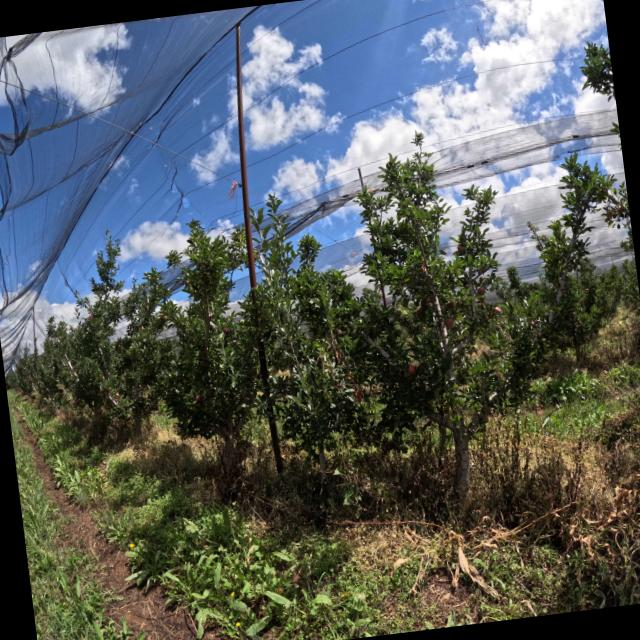-FireBlight-: (324, 329, 347, 368), (345, 374, 364, 405), (336, 327, 346, 334)
